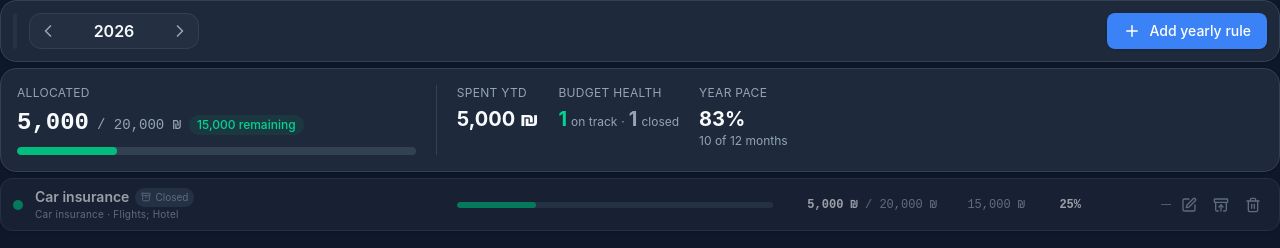
YearlyBudgetView › answers on click › flips a reopened rule before the server answers
Expected: the element with test id "yearly-closed-badge" is shown, [135,188,194,206]
Click the button with test id "yearly-close-toggle-7" at [1221, 204], box [1207,190,1235,218]
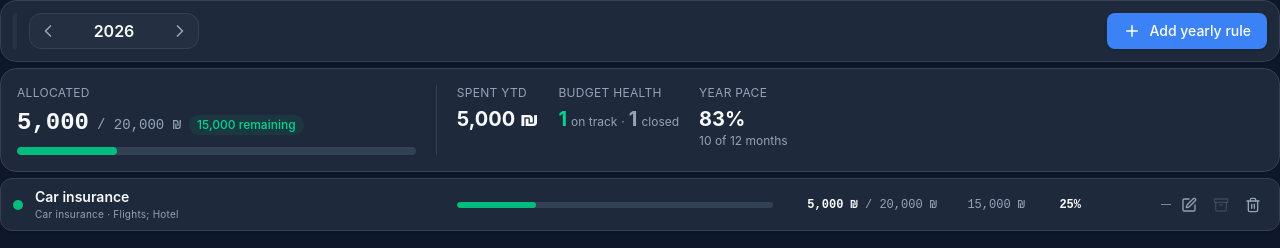
Now no elements with test id "yearly-closed-badge" are shown
